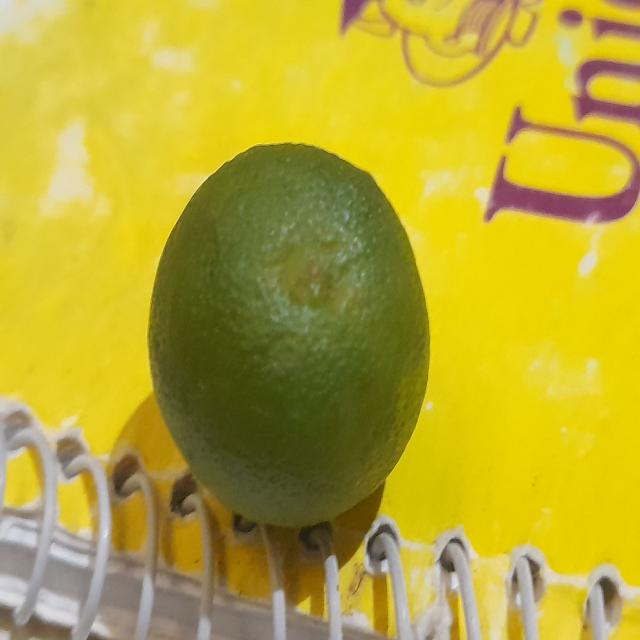heathy: (146, 134, 434, 532)
